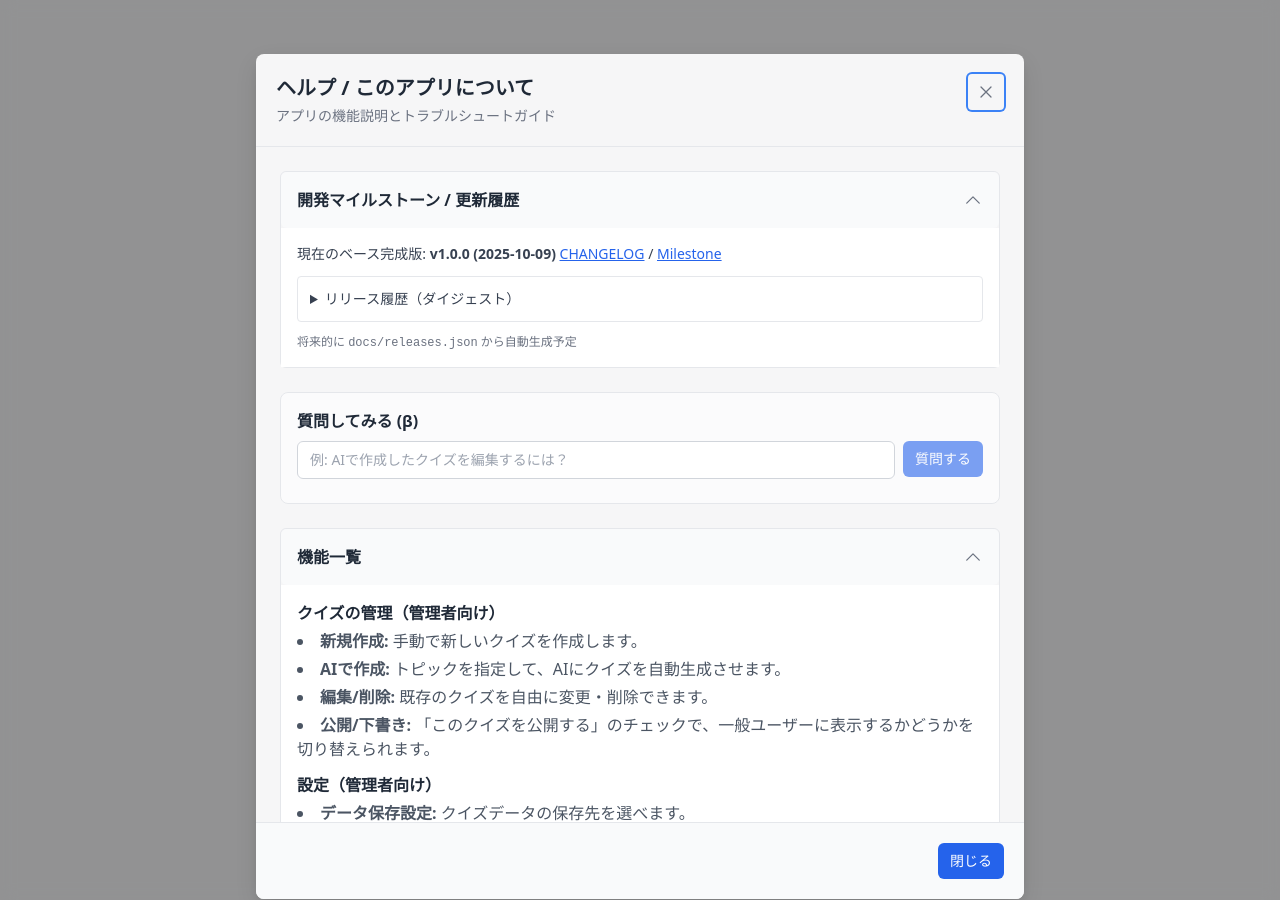
HelpModal › 質問送信失敗でエラーメッセージ表示
In the field named "ヘルプ質問入力": (596, 460) [297, 441, 895, 479], type "失敗テスト"
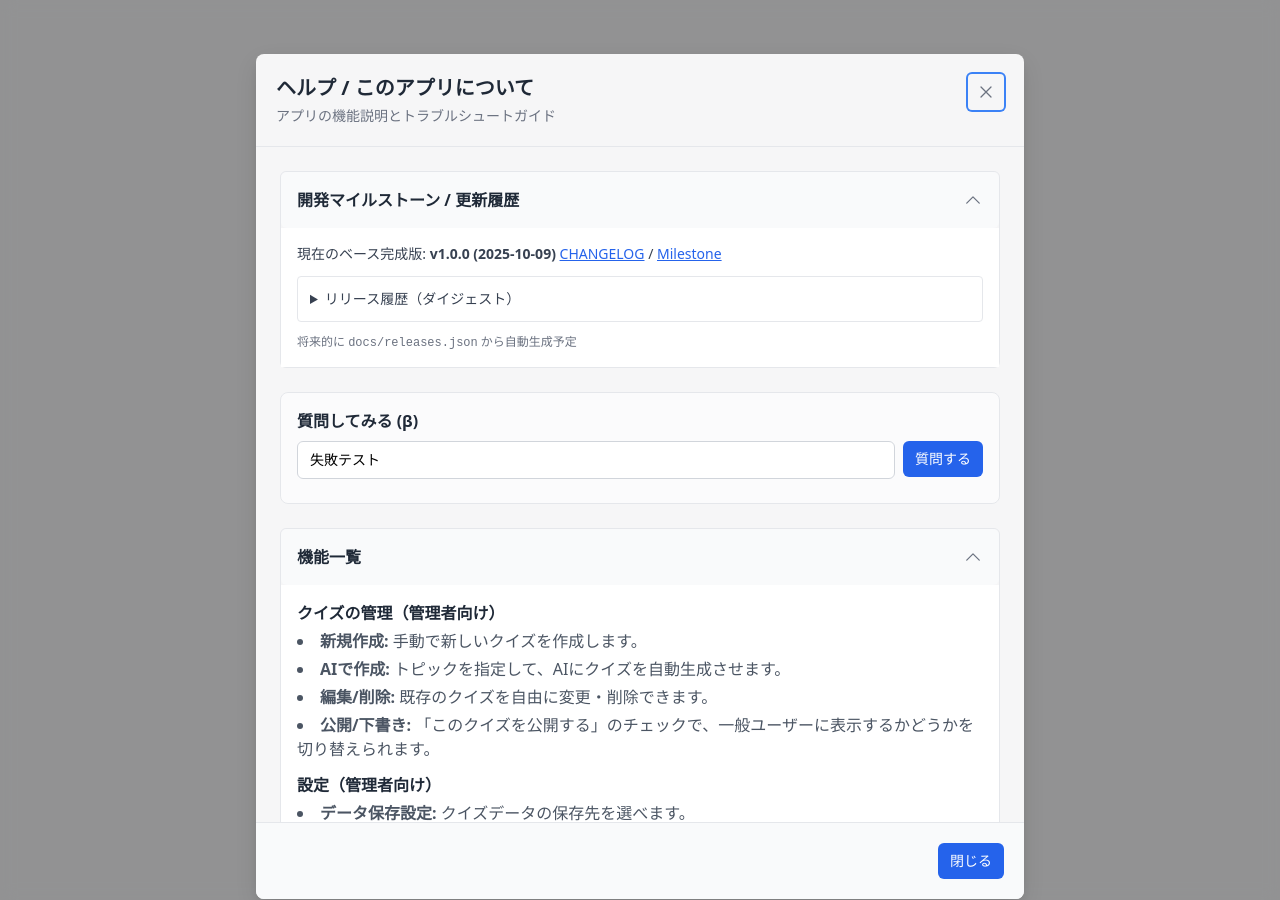
Click the button "質問する": (943, 459) [903, 441, 983, 477]
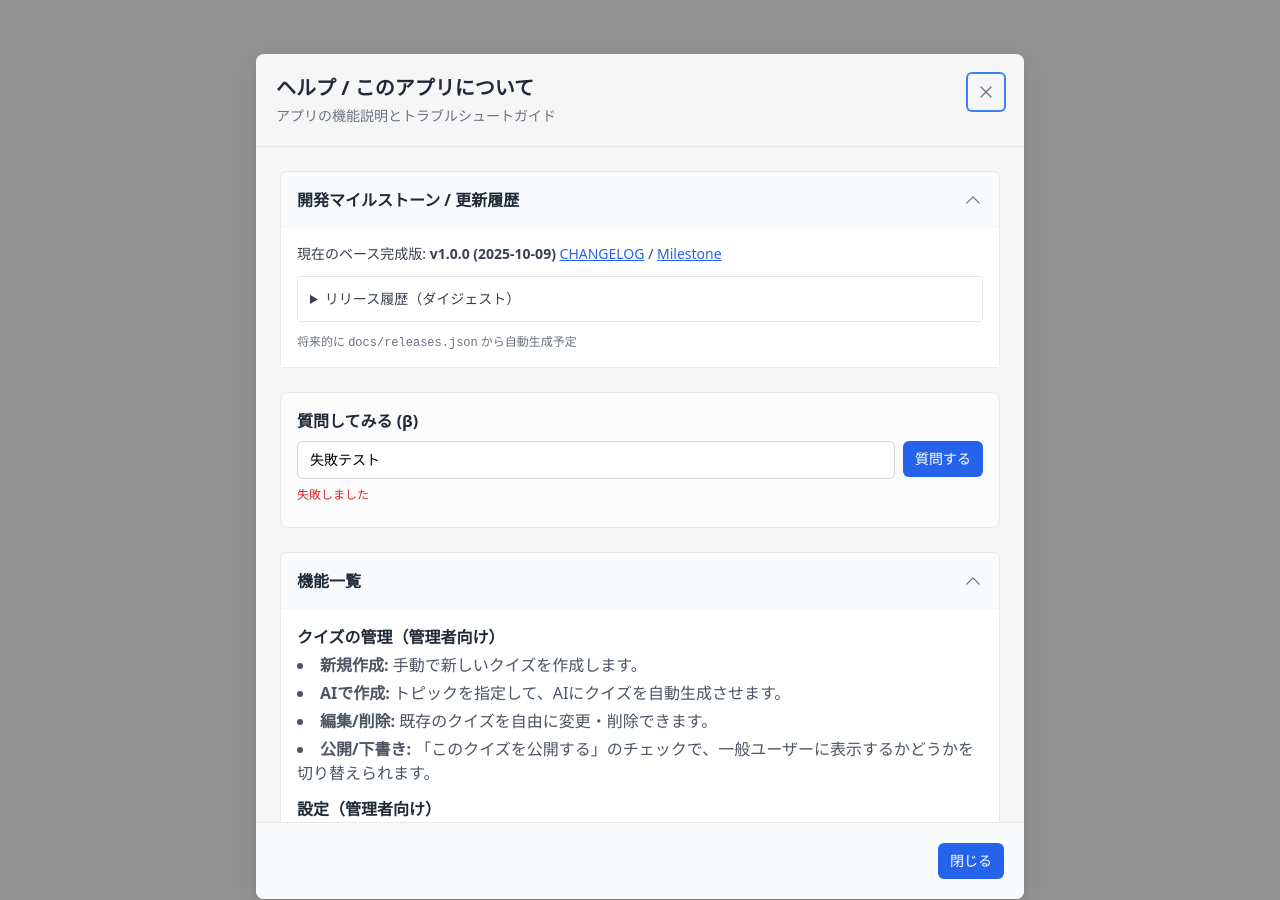
Expected: the text "失敗しました" is shown, [297, 486, 369, 503]
